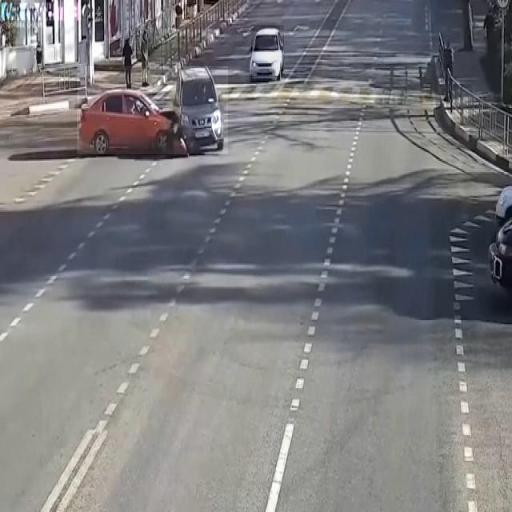小汽车: (251, 26, 284, 78)
小汽车撞小汽车: (77, 66, 228, 154)
